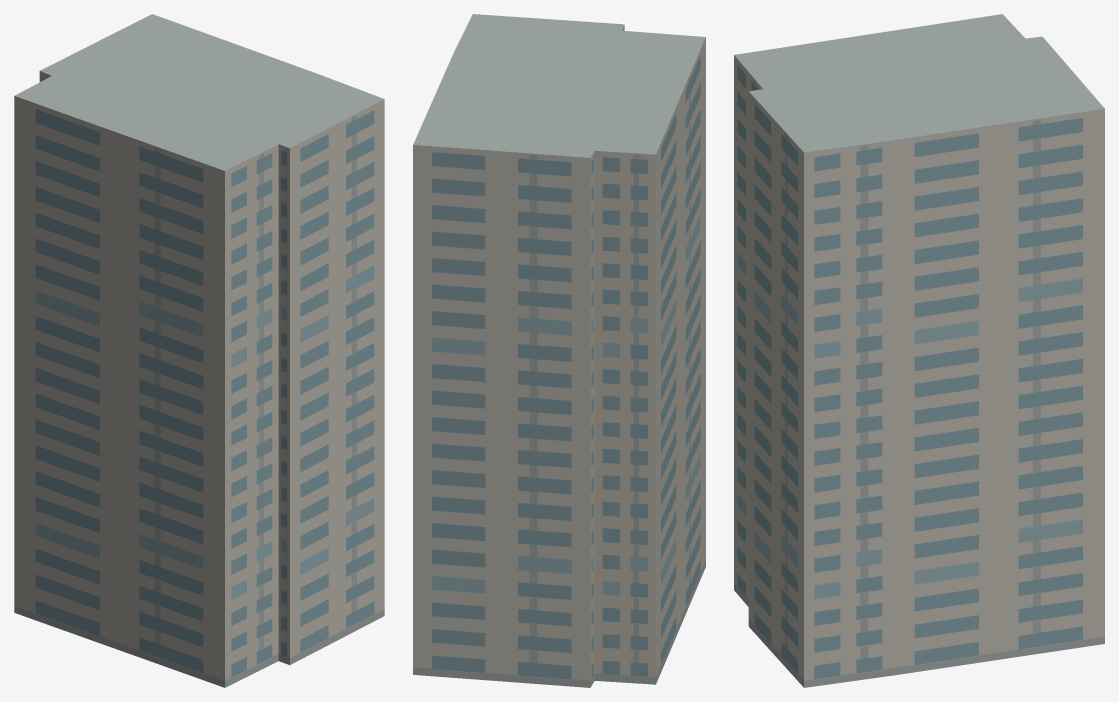
The model's file is survey-upis-32761627.glb.
3 renders of one model, left to right at view 1: azimuth 30°, elevation 25°; view 2: azimuth 150°, elevation 25°; view 3: azimuth 270°, elevation 25°, orthographic. The views are drawn at different scales.
Parts seen in each view (by area): view 1: survey-upis-32761627.tmp; view 2: survey-upis-32761627.tmp; view 3: survey-upis-32761627.tmp.
Part boxes in pixels (box(x1,y1,x2,y2)): survey-upis-32761627.tmp: box(14, 14, 384, 687); survey-upis-32761627.tmp: box(413, 14, 705, 687); survey-upis-32761627.tmp: box(734, 14, 1104, 687).
Size of the model in its own units: 46.14 by 83.03 by 52.15.
